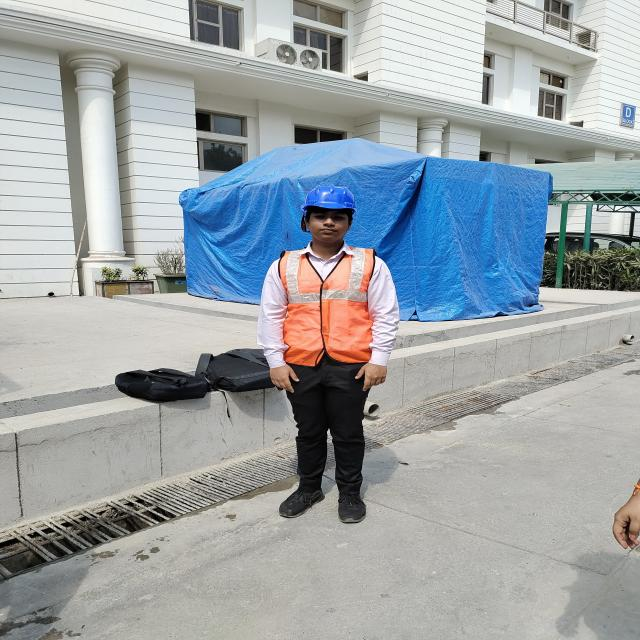safe: (262, 185, 394, 522)
